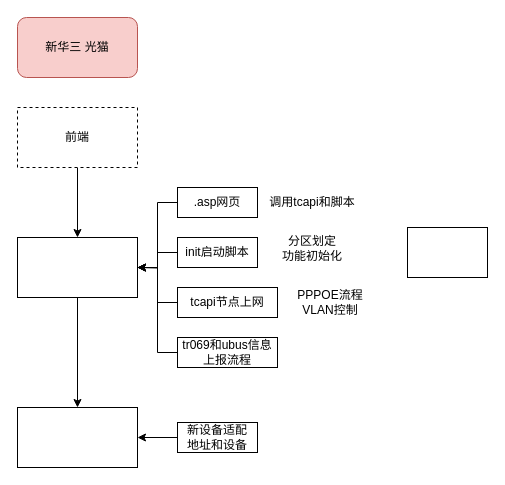
Some shapes in this 505 by 485 pixel diagram are drawn without their labels. The shapes that lost their labels are listed below. From the top down, each one's centre as x and y in pixels, then its label:
pixel 77 267: tcapi
pixel 447 252: OLT VLAN管理 PPPOE管理
pixel 77 437: 驱动
